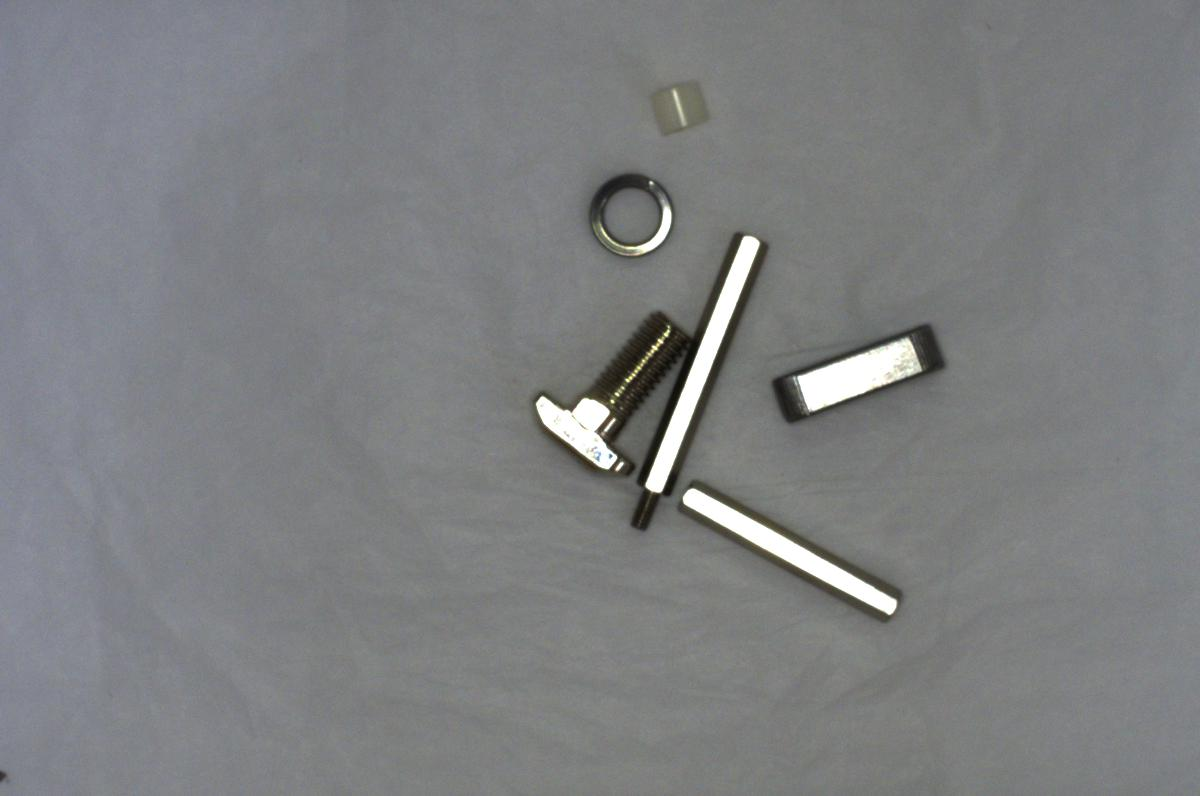Double hexagonal column: (667, 474, 912, 622)
Hexagonal steel column: (623, 226, 775, 533)
Keybar: (765, 303, 971, 433)
Plastic cushion pillar: (644, 69, 719, 137)
Spring washer: (584, 159, 684, 267)
T-shaped screw: (534, 299, 691, 481)
